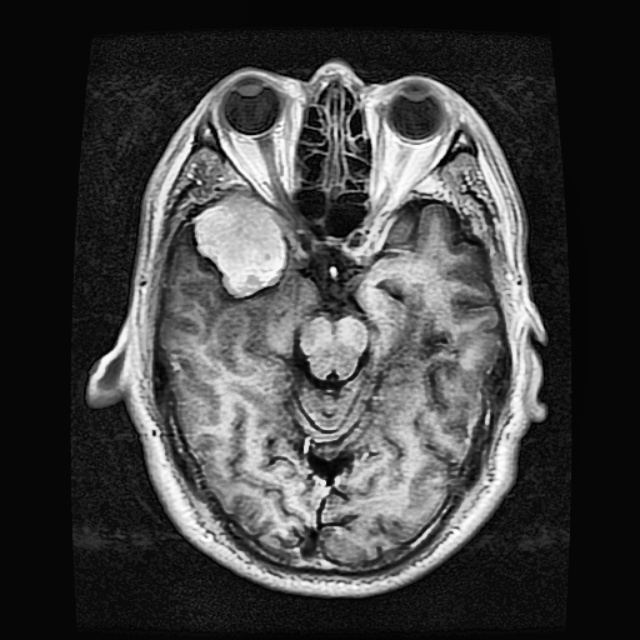Glioma: (193, 192, 285, 295)
